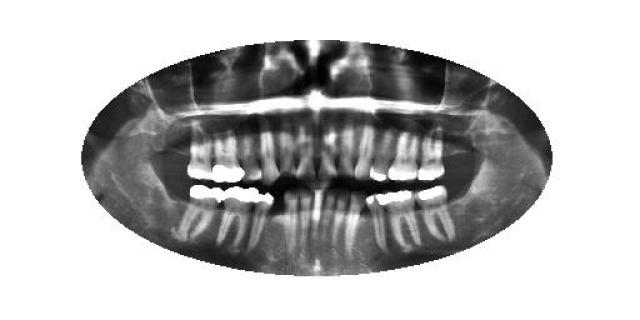Fillings: (216, 186, 255, 250), (382, 190, 422, 249), (415, 185, 455, 240), (180, 185, 222, 236), (212, 128, 244, 182), (365, 192, 389, 254), (419, 128, 446, 182), (248, 192, 274, 248), (389, 132, 419, 180), (186, 126, 212, 180), (370, 130, 390, 184)
